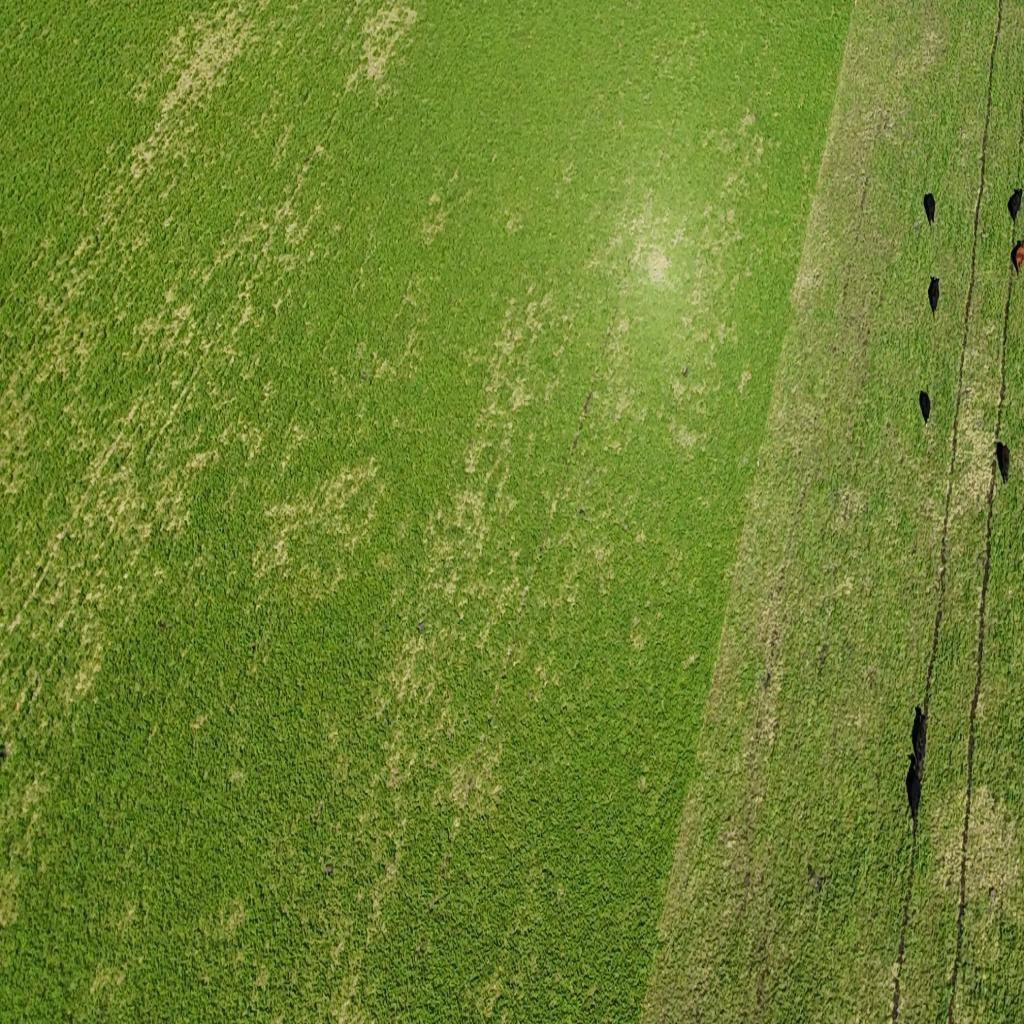cow: (908, 754, 921, 820), (916, 710, 927, 766), (1010, 183, 1024, 226), (927, 276, 940, 318), (920, 386, 932, 426), (1000, 441, 1010, 484), (924, 192, 936, 226), (1015, 236, 1024, 269)
